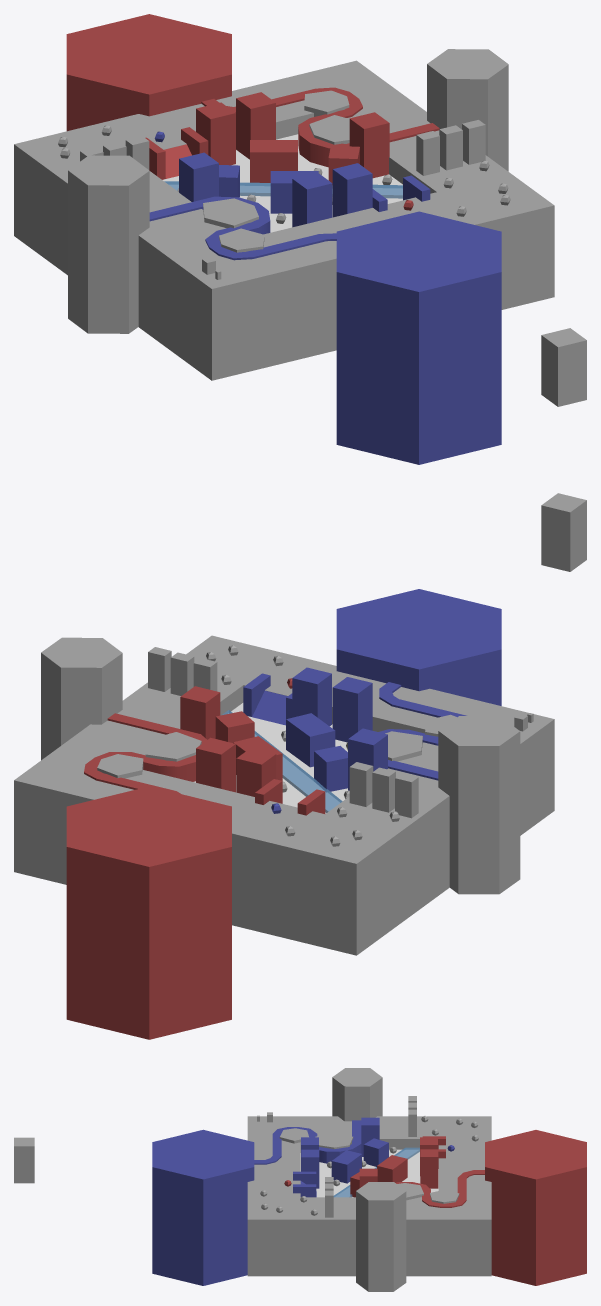
File: map_2.fbx
3 renders of one model, top to bottom at view 1: azimuth 30°, elevation 25°; view 2: azimuth 150°, elevation 25°; view 3: azimuth 270°, elevation 25°, orthographic. The views are drawn at different scales.
Parts seen in each view (by area): view 1: pCube4, pCylinder2 (×2), pCylinder3, pCylinder6, pCube5 (×2), pCube19 (×2), pCube2 (×2), pCube21 (×2), pCube9, pCube20 (×2), pCylinder4 (×2), pCylinder5 (×2) (+6 smaller); view 2: pCube4, pCylinder2 (×2), pCylinder3, pCylinder6, pCube5 (×2), pCube19 (×2), pCube2 (×2), pCube9, pCube21 (×2), pCube20 (×2), pCube22 (×2), pCylinder4 (×2) (+10 smaller); view 3: pCylinder2 (×2), pCube4, pCylinder6, pCylinder3, pCube5 (×2), pCube20 (×2), pCube9, pCube19, pCylinder5 (×2), pCube22, pCube2, pCube21 (+2 smaller).
Part boxes in pixels (x1,y1,x2,y2): pCube4: (14,60,554,380); pCylinder2 (×2): (66,14,501,464); pCylinder3: (68,155,149,333); pCylinder6: (427,49,508,171); pCube5 (×2): (149,87,439,260); pCube19 (×2): (236,92,332,227); pCube2 (×2): (196,102,372,217); pCube21 (×2): (179,112,389,201); pCube9: (541,328,586,406); pCube20 (×2): (250,140,318,213); pCylinder4 (×2): (203,115,349,228); pCylinder5 (×2): (219,90,349,252); pCube4: (14,635,554,955); pCylinder2 (×2): (66,589,501,1039); pCylinder3: (438,716,520,894); pCylinder6: (41,637,122,760); pCube5 (×2): (84,682,466,793); pCube19 (×2): (196,677,372,792); pCube2 (×2): (236,667,331,796); pCube9: (541,493,586,571); pCube21 (×2): (180,686,387,790); pCube20 (×2): (233,713,335,780); pCube22 (×2): (215,711,347,792); pCylinder4 (×2): (145,731,422,761); pCylinder2 (×2): (152,1129,586,1285); pCube4: (247,1116,491,1276); pCylinder6: (356,1182,406,1291); pCylinder3: (332,1068,382,1121); pCube5 (×2): (254,1120,484,1207); pCube20 (×2): (331,1150,407,1183); pCube9: (14,1137,34,1183); pCube19: (420,1149,438,1188); pCylinder5 (×2): (279,1128,459,1203); pCube22: (363,1138,388,1166); pCube2: (301,1149,319,1188); pCube21: (361,1117,379,1156).
Size of the model in its own units: 41.48 by 18.72 by 75.83.
